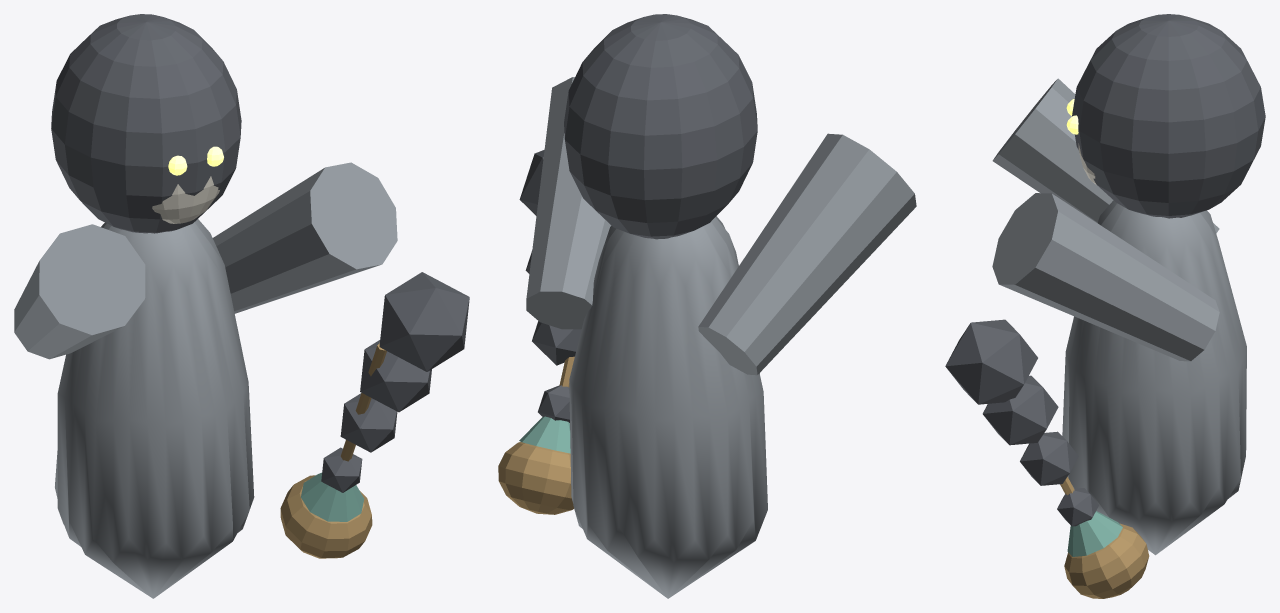
The model's file is censer_wraith.glb.
3 views of the same model, side by side, from view 1: azimuth 30°, elevation 25°; view 2: azimuth 150°, elevation 25°; view 3: azimuth 270°, elevation 25° (orthographic). The views are drawn at different scales.
Parts seen in each view (by area): view 1: censer_wraith_body, censer; view 2: censer_wraith_body, censer; view 3: censer_wraith_body, censer.
Part boxes in pixels (x1,y1,x2,y2): censer_wraith_body: (14, 14, 397, 598); censer: (280, 272, 469, 558); censer_wraith_body: (526, 14, 916, 598); censer: (498, 149, 581, 514); censer_wraith_body: (992, 14, 1265, 555); censer: (945, 319, 1149, 598).
Bounding box in the file's own units: 0.9853 × 1.34 × 0.7274.
